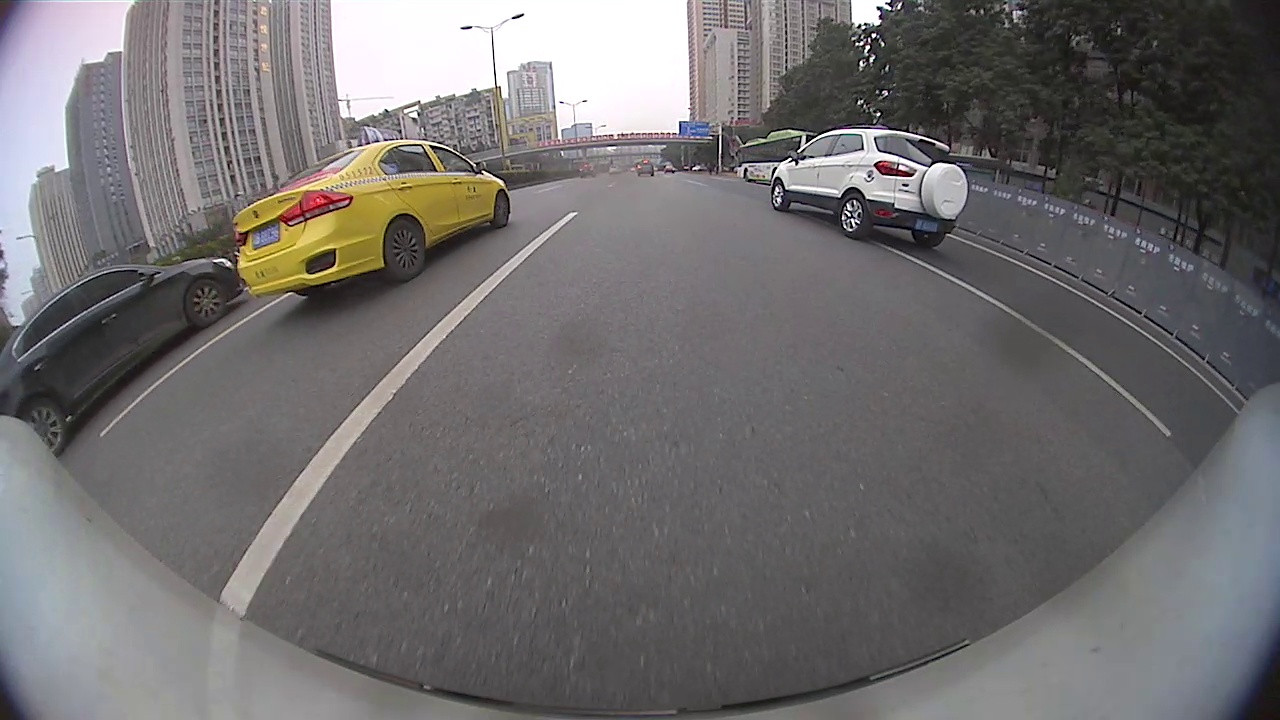bus: (735, 130, 822, 185)
car: (1, 257, 234, 454), (234, 139, 511, 298), (772, 126, 968, 248), (635, 159, 654, 176), (579, 162, 596, 178)
front: (185, 277, 233, 327), (494, 190, 515, 230), (768, 179, 790, 213)
rear: (379, 214, 429, 282), (17, 393, 67, 457), (839, 194, 870, 242)
